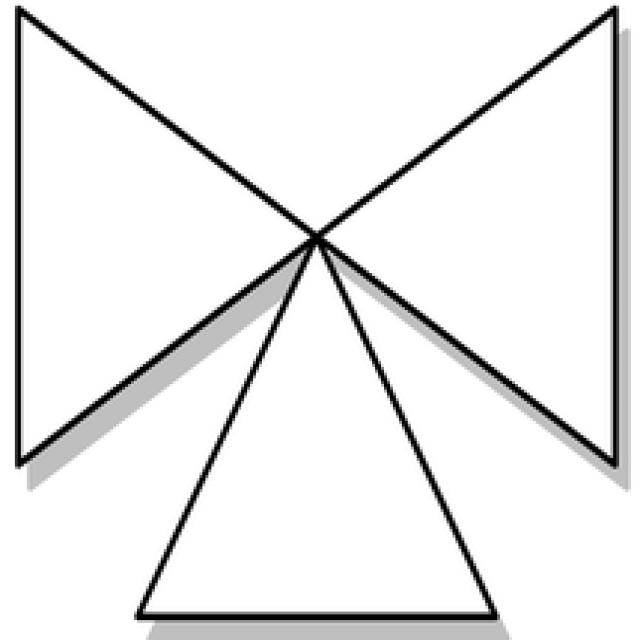3-way Valve: (22, 12, 619, 470), (141, 244, 496, 622)
